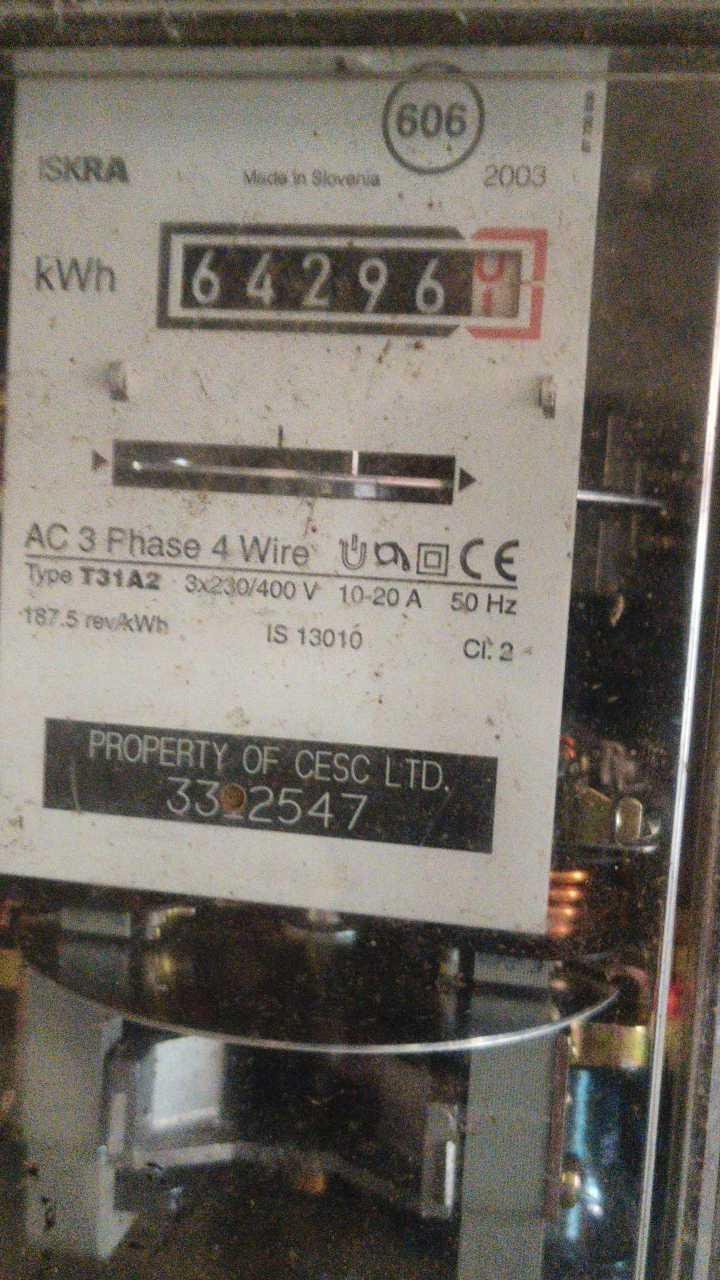meter_readings: (182, 244, 519, 320)
serial_number: (163, 777, 373, 831)
